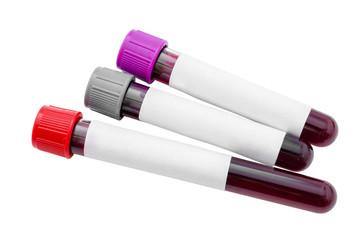Test tube: (5, 18, 347, 223)
